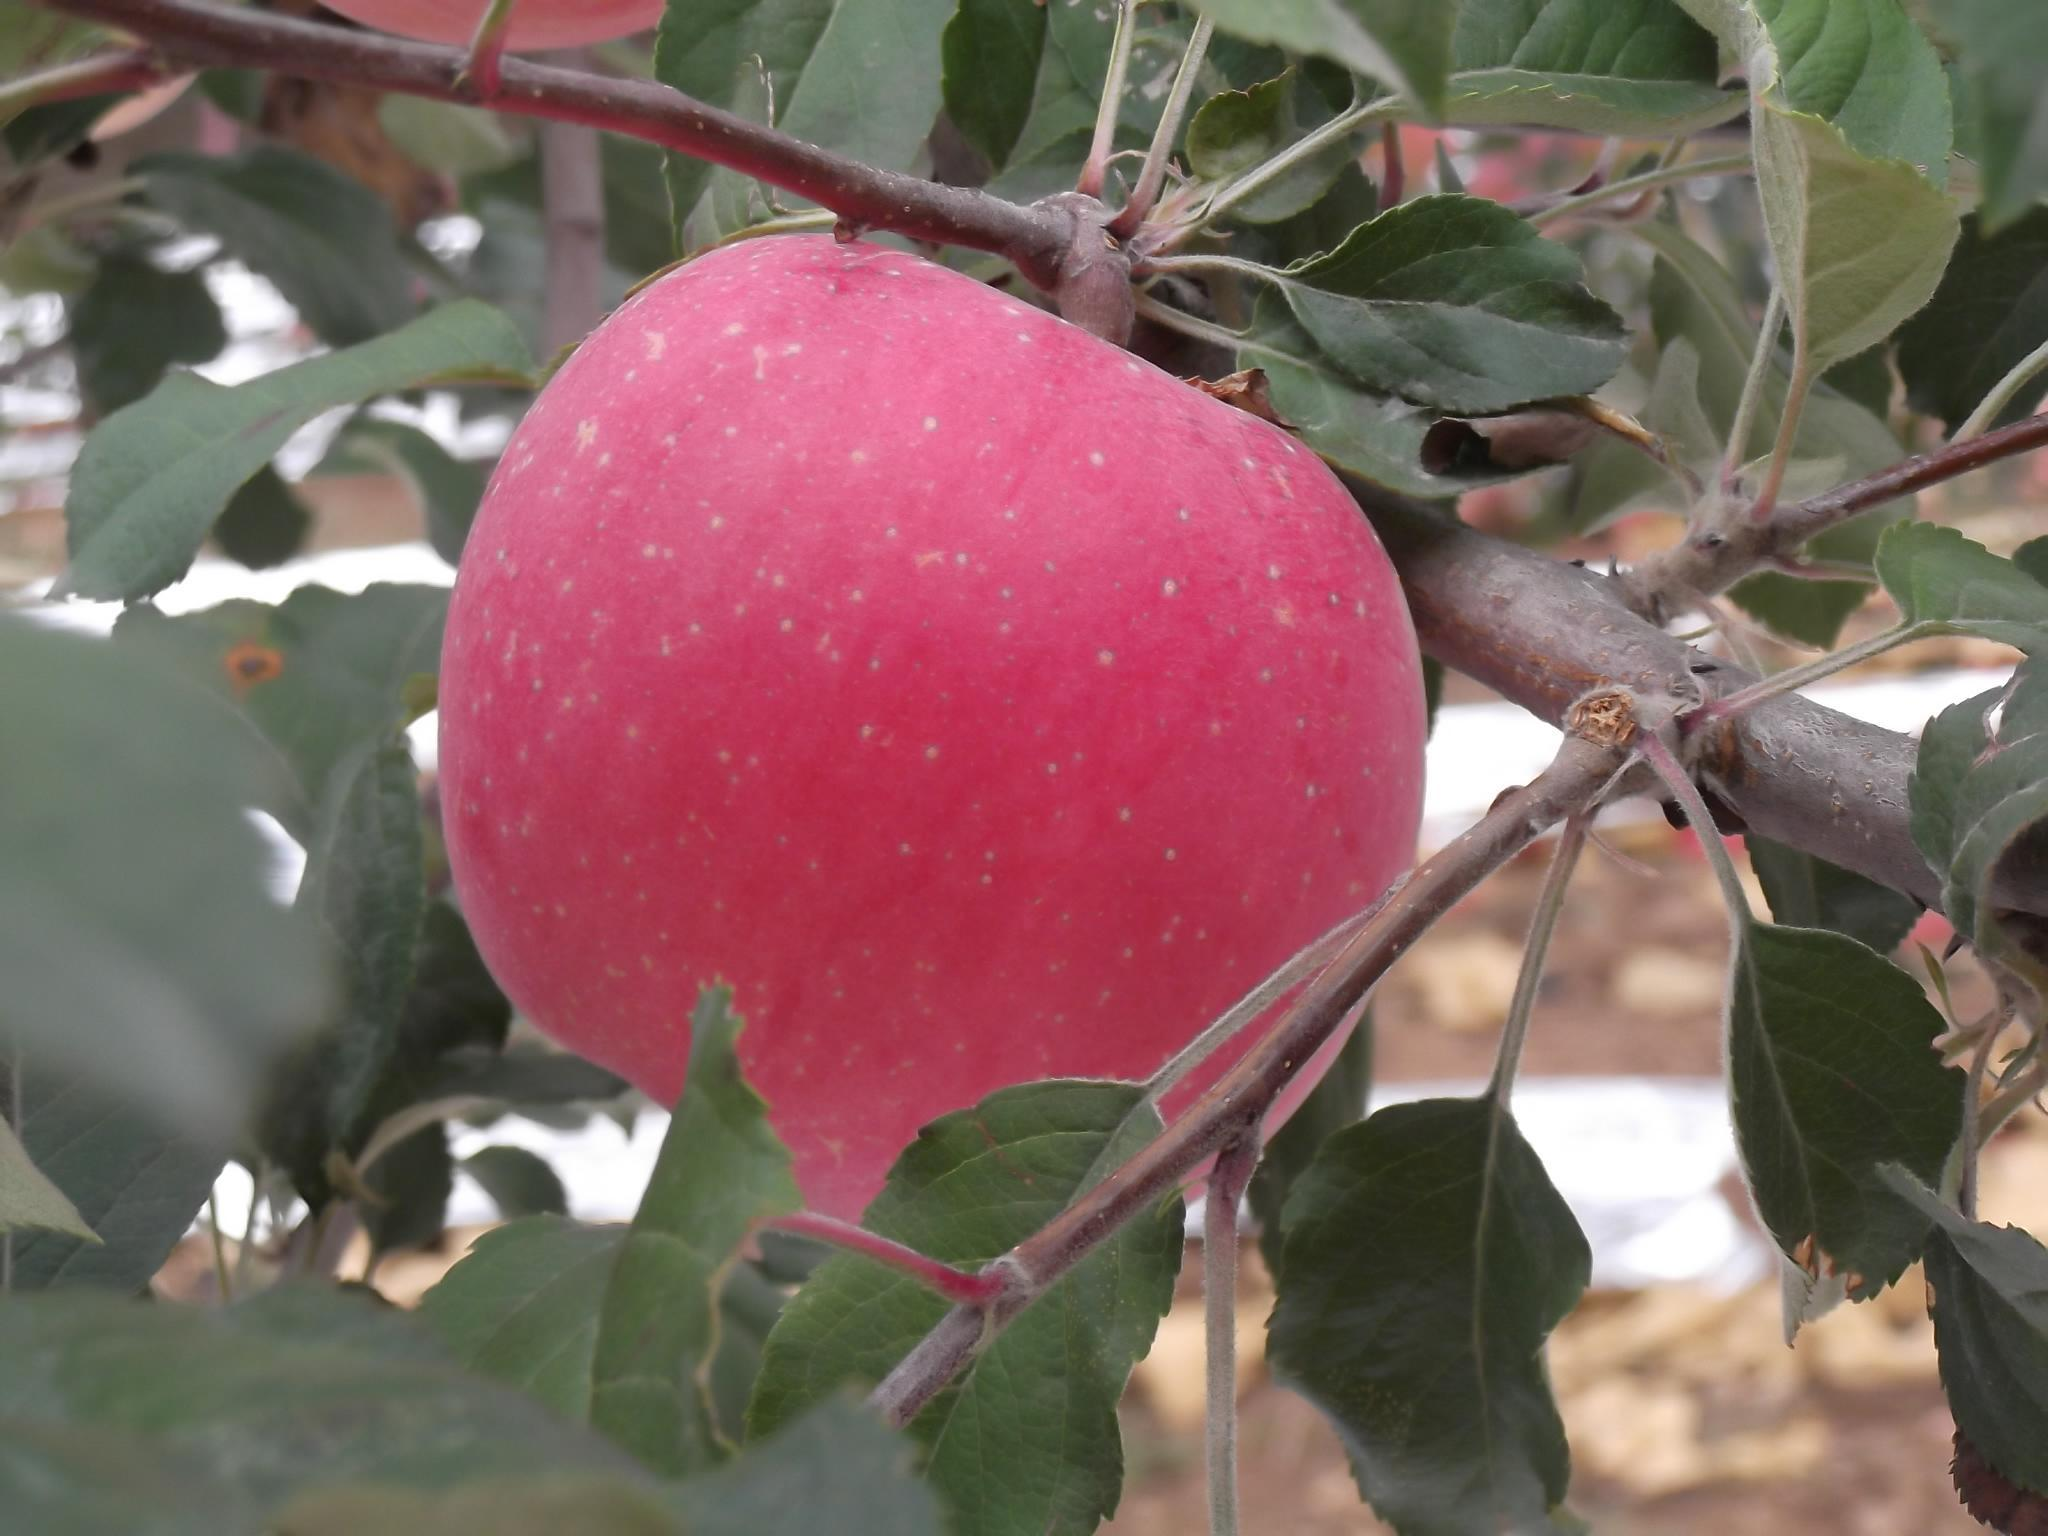apple: (419, 213, 1448, 1226)
